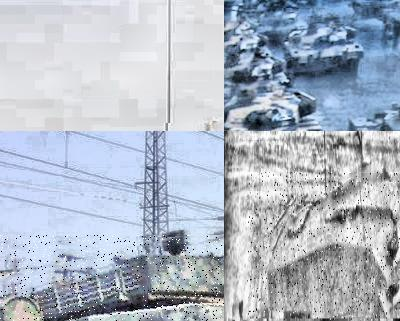tanks: (249, 174, 400, 321), (1, 237, 225, 321), (225, 21, 284, 102), (225, 91, 323, 132), (285, 27, 365, 76), (386, 7, 400, 46)
